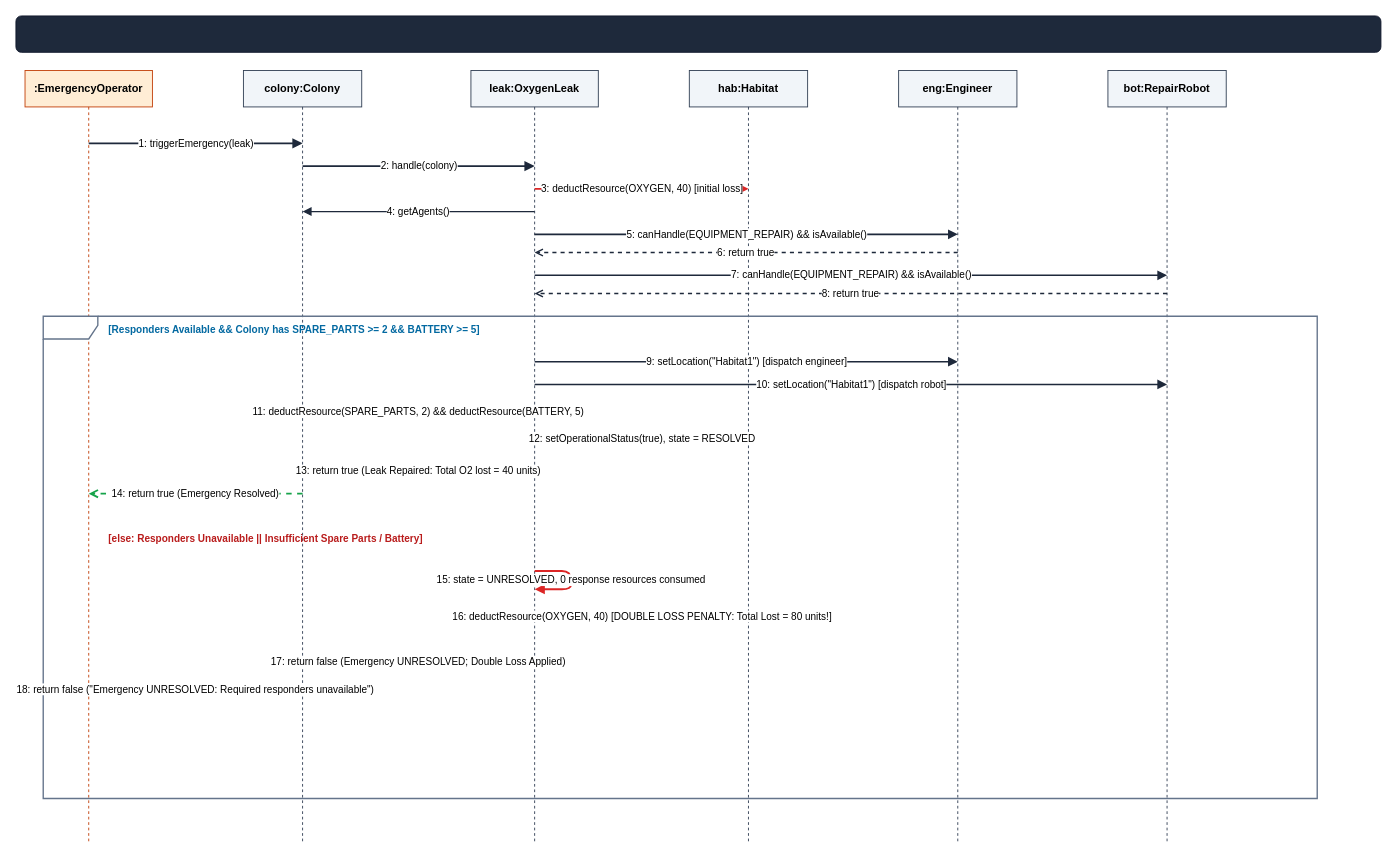
This 1397x860 diagram has some shape labels left out. The box of each missing label's shape, as (x1, y1, x2, y2) in pixels:
alt: (42, 315, 1317, 799)
SEQUENCE DIAGRAM 4B: OXYGEN LEAK EMERGENCY HANDLING: (15, 15, 1381, 52)
